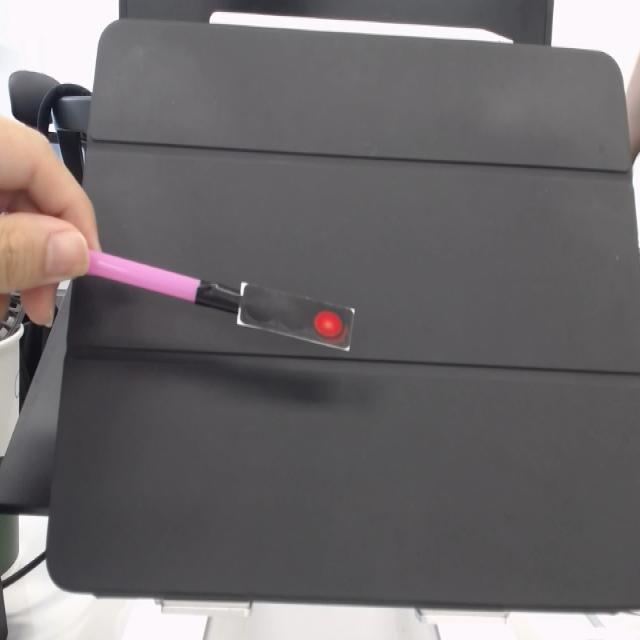traffic light: (239, 283, 357, 356)
